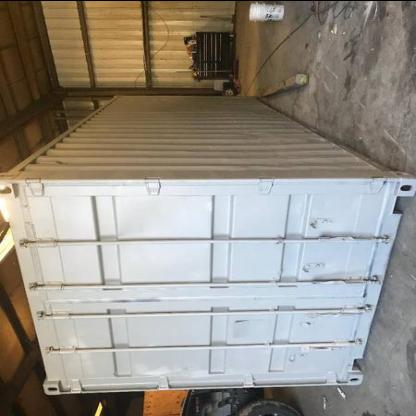Damage: (219, 146, 356, 174), (135, 356, 207, 381), (65, 332, 87, 364), (235, 126, 266, 140)
